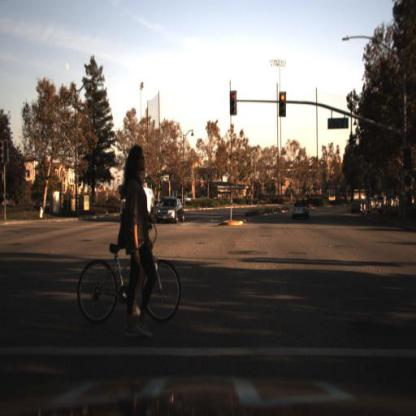biker: (76, 230, 177, 338)
car: (286, 195, 315, 235), (156, 193, 187, 228), (350, 198, 369, 219), (351, 197, 364, 216)
pedestrian: (111, 138, 153, 343)
trafficLight-Red: (278, 88, 289, 123), (402, 145, 414, 174)
trafficLight-RedLeft: (228, 85, 239, 121)
